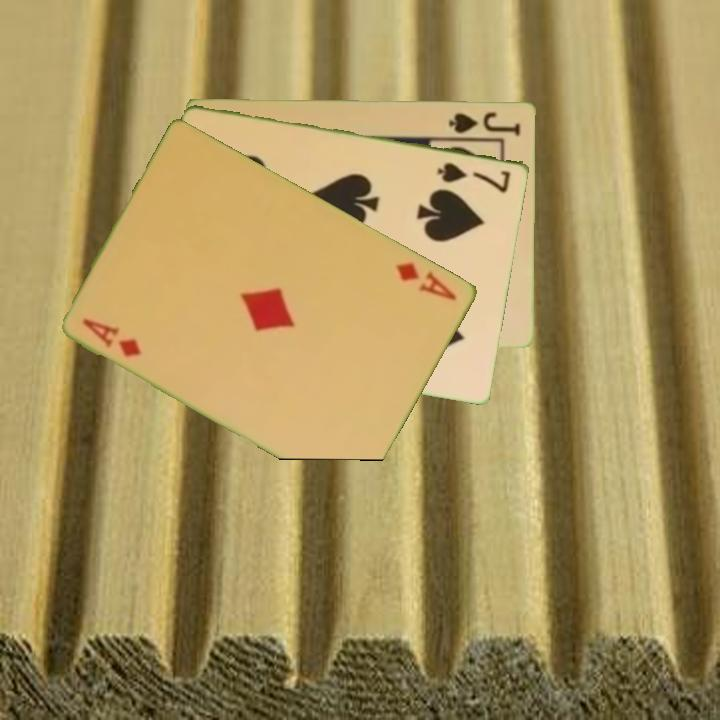7s: (434, 158, 514, 195)
Ad: (392, 258, 460, 304), (79, 314, 145, 360)
Js: (446, 108, 523, 138)
